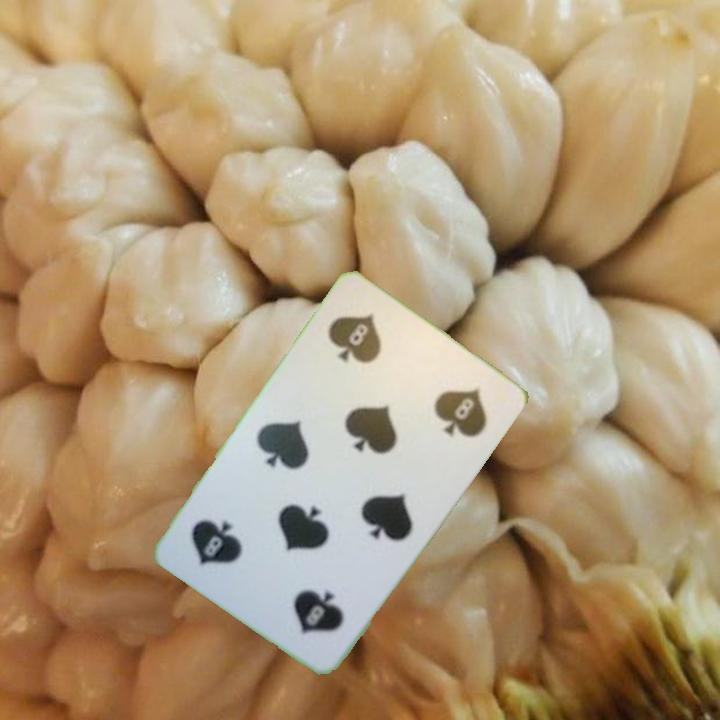s_8.png: (303, 288, 432, 413), (246, 535, 374, 660)
